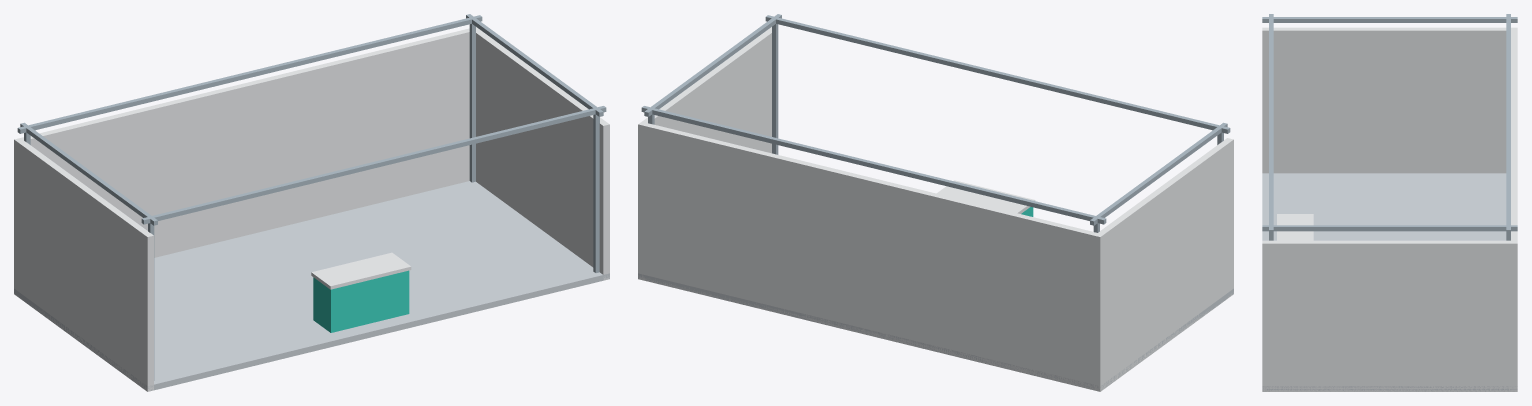
3 renders of one model, left to right at view 1: azimuth 30°, elevation 25°; view 2: azimuth 150°, elevation 25°; view 3: azimuth 270°, elevation 25°, orthographic. The views are drawn at different scales.
Parts seen in each view (by area): view 1: Exhibition Booth Concept; view 2: Exhibition Booth Concept; view 3: Exhibition Booth Concept.
Boxes of the visible parts, box(x1,y1,x2,y2) form: Exhibition Booth Concept: box(14, 14, 609, 391); Exhibition Booth Concept: box(638, 14, 1233, 391); Exhibition Booth Concept: box(1262, 14, 1517, 391).
Size of the model in its own units: 10 by 3.49 by 5.
